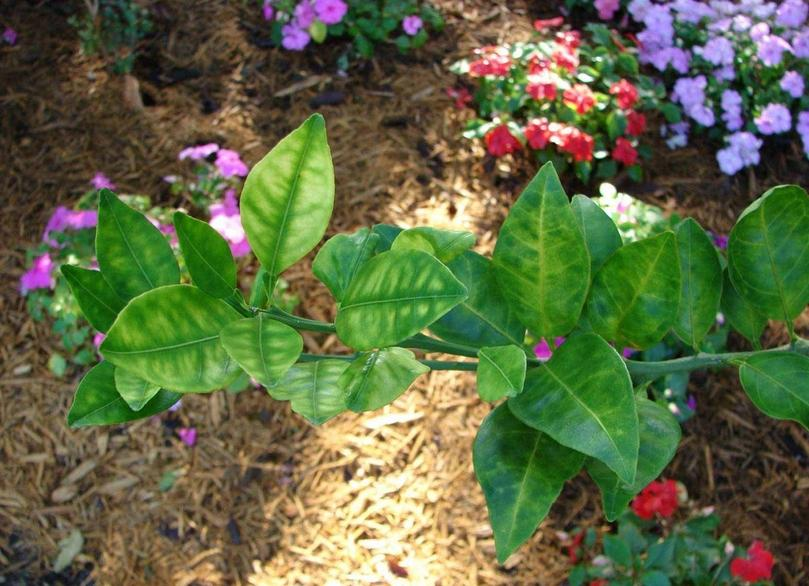Citrus Greening: (490, 158, 596, 343), (238, 108, 337, 276), (333, 248, 470, 354), (218, 312, 308, 387)
